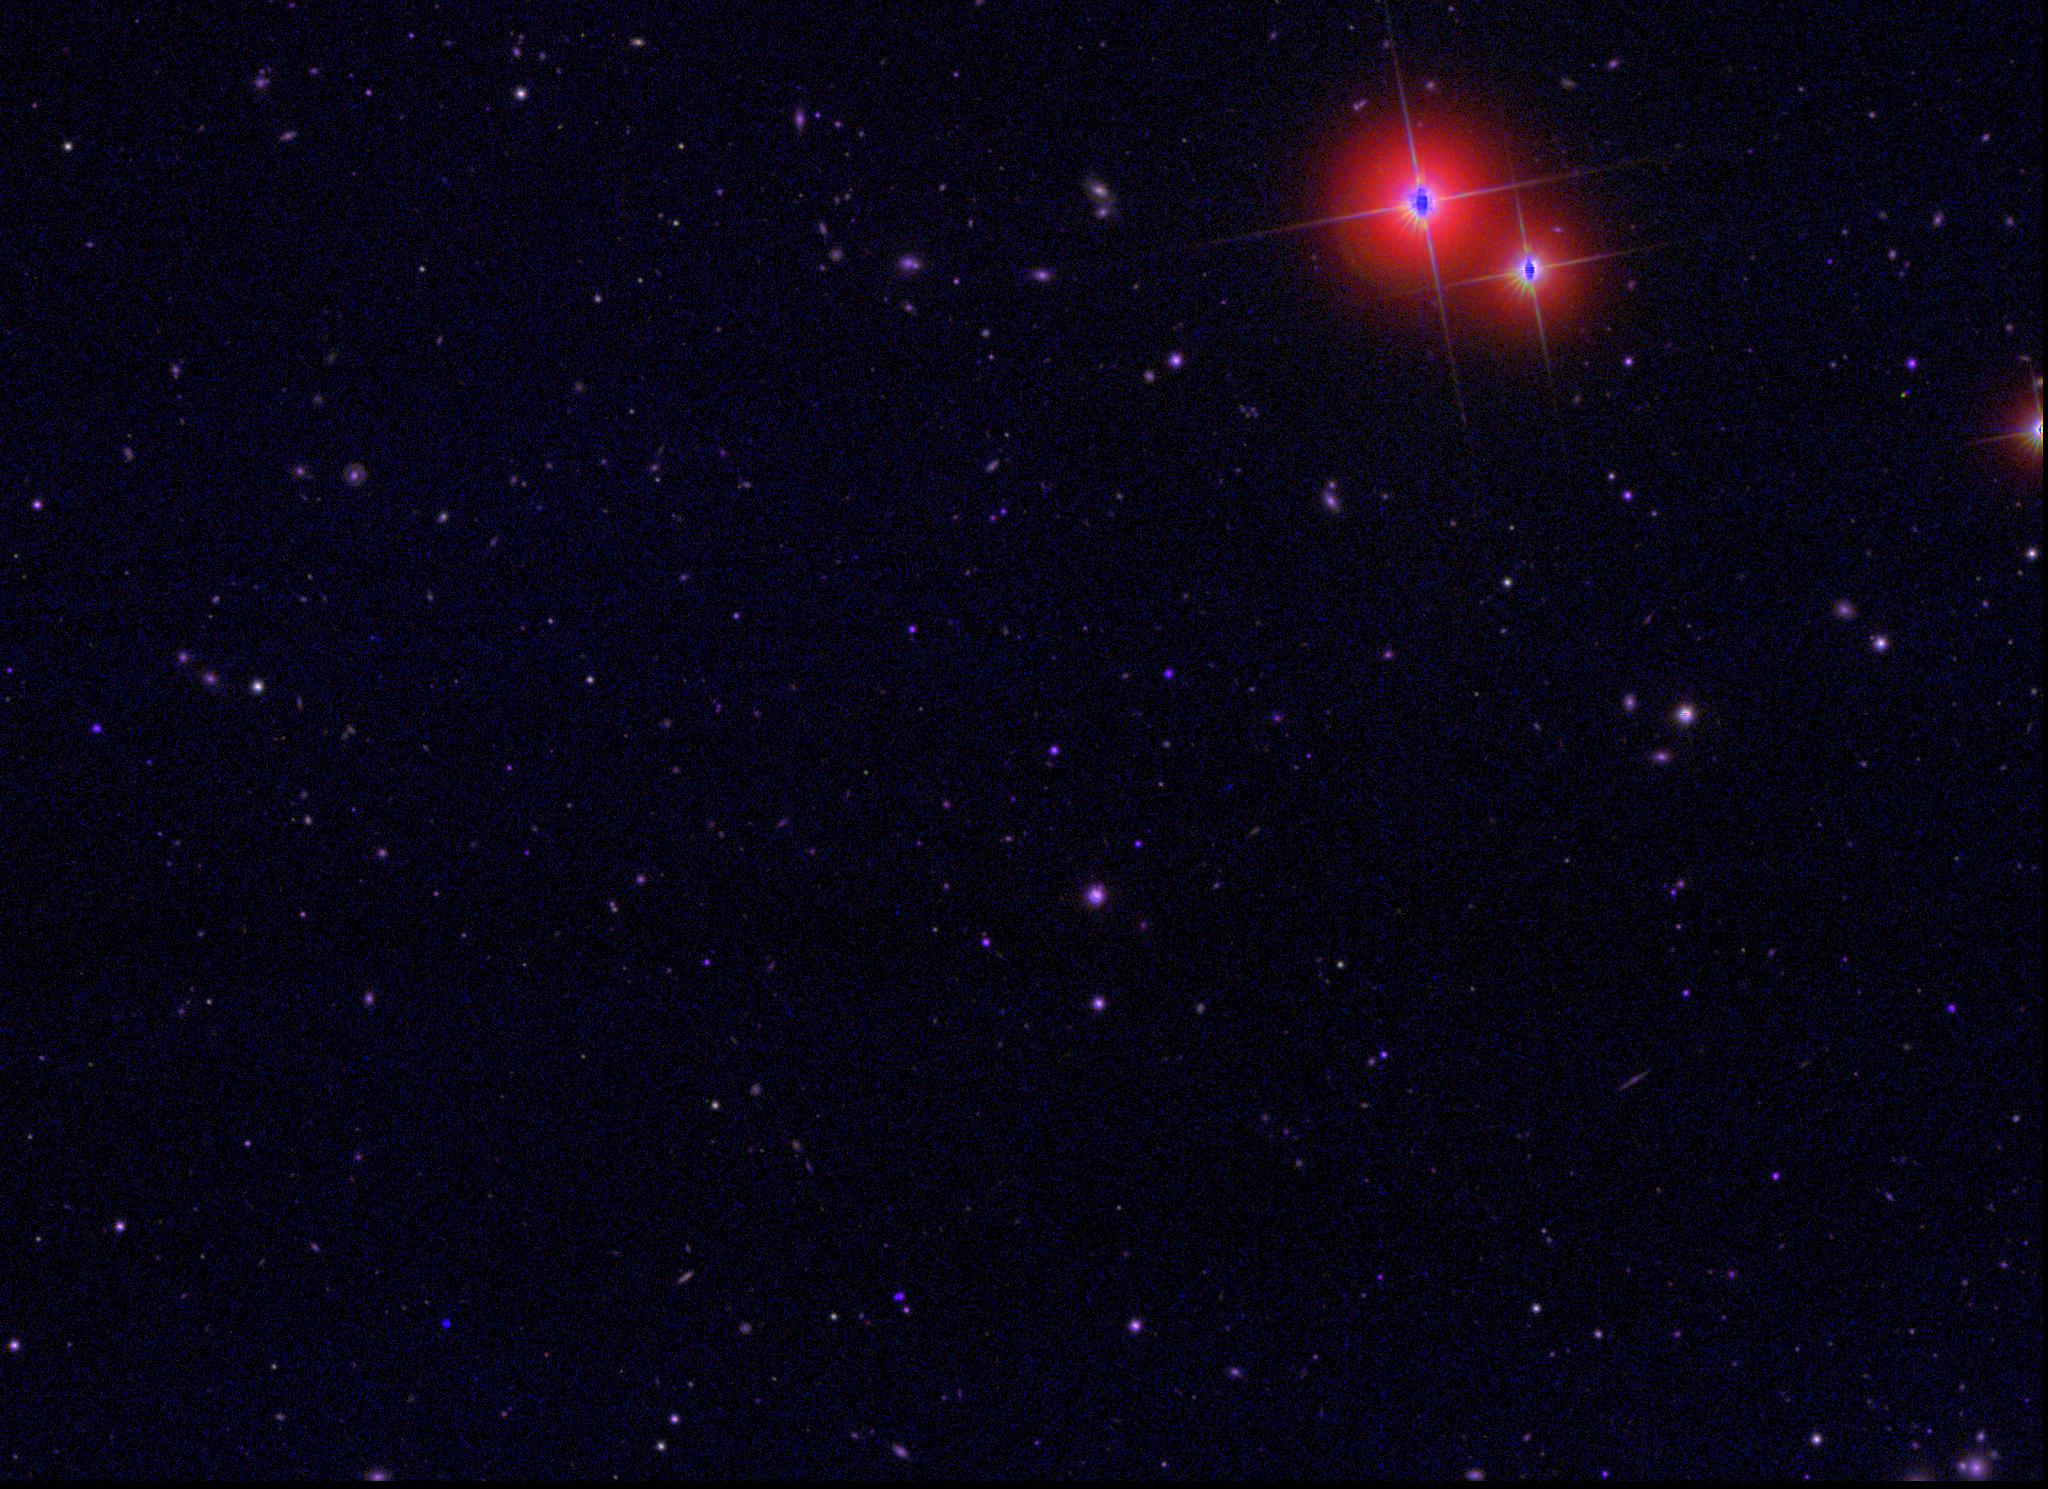L: (439, 1316, 453, 1328)
